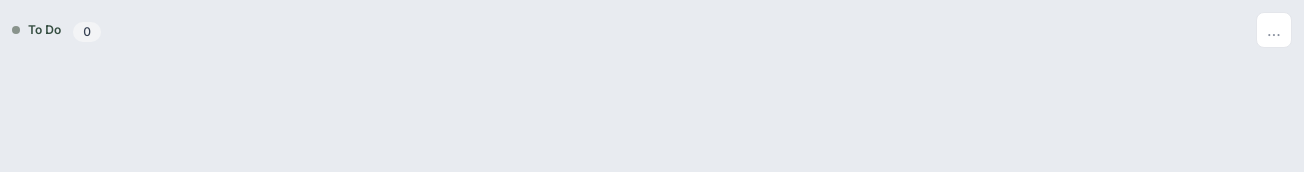
ColumnHeader › rejects an empty name and keeps the editor open
Click the button with aria-label "Rename column: To Do" at x=45, y=30, box x1=24 y1=19 x2=65 y2=41
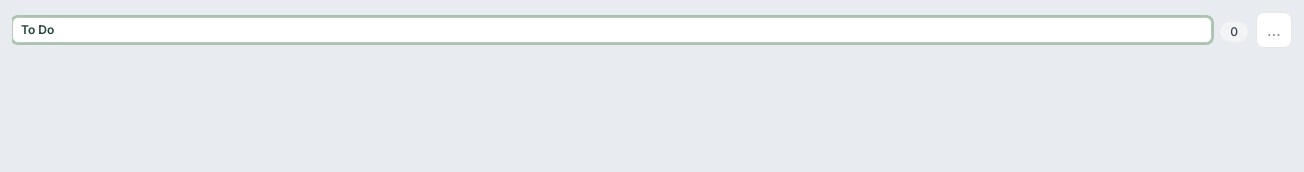
Clear the field named "Column name" at x=612, y=30, box x1=12 y1=17 x2=1212 y2=43
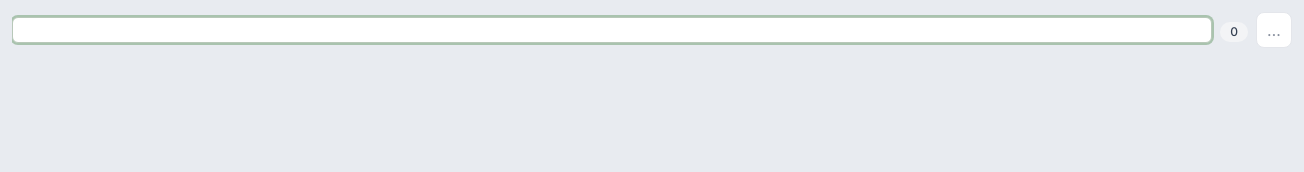
Press Enter
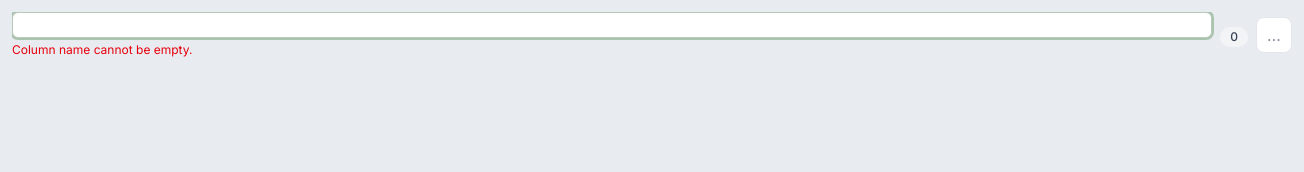
Now the message shows "cannot be empty", box x1=12 y1=42 x2=192 y2=57
